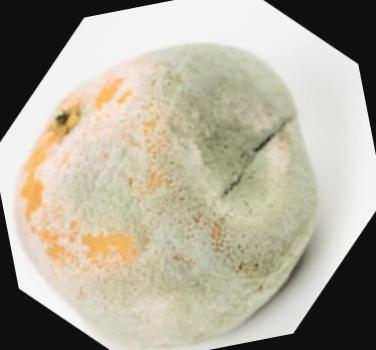Orange Rotten: (0, 4, 363, 350)
